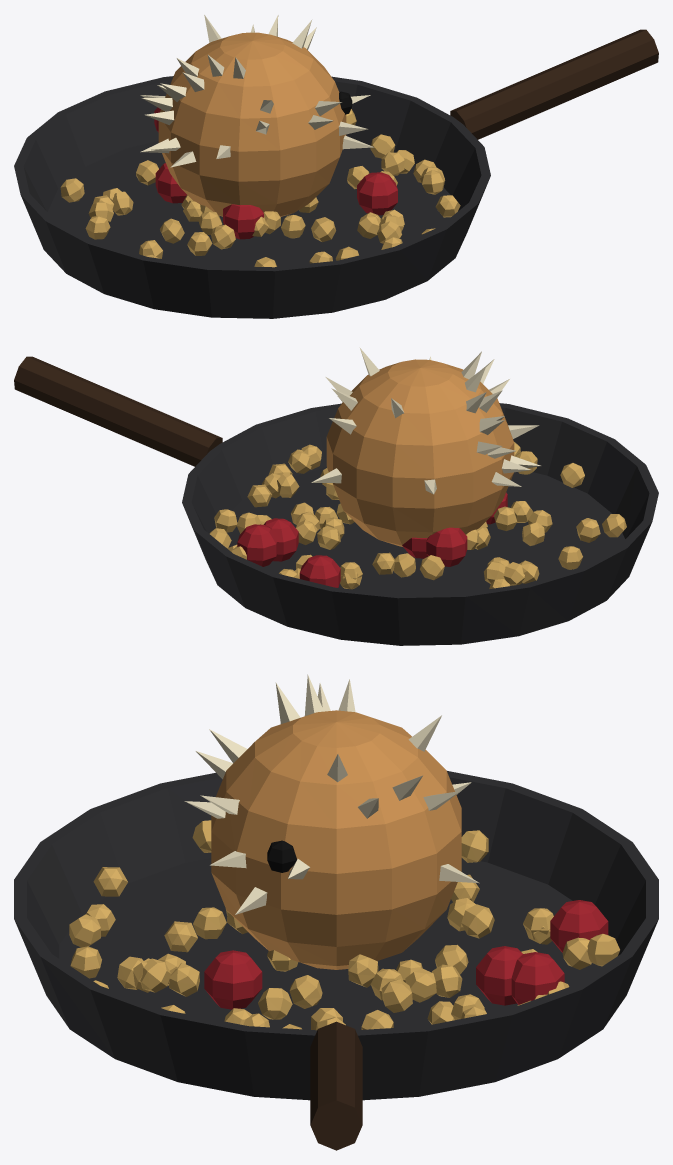
Rendered from VFP_Food_PufferBarleyPan.obj.
3 renders of one model, top to bottom at view 1: azimuth 30°, elevation 25°; view 2: azimuth 150°, elevation 25°; view 3: azimuth 270°, elevation 25°, orthographic. The views are drawn at different scales.
Visible parts, largest first — view 1: Pan, Puffer, Grain, Pan_wood_dark, Puffer_tusk, Berries; view 2: Pan, Puffer, Grain, Pan_wood_dark, Berries, Puffer_tusk; view 3: Pan, Puffer, Grain, Berries, Puffer_tusk, Pan_wood_dark, Puffer_eye.
Boxes of the visible parts, bbox=[...] form: Pan: bbox=[14, 76, 490, 318]; Puffer: bbox=[158, 32, 346, 216]; Grain: bbox=[60, 109, 460, 267]; Pan_wood_dark: bbox=[450, 29, 658, 139]; Puffer_tusk: bbox=[140, 15, 373, 167]; Berries: bbox=[154, 107, 397, 239]; Pan: bbox=[182, 403, 658, 645]; Puffer: bbox=[326, 359, 514, 546]; Grain: bbox=[209, 442, 626, 589]; Pan_wood_dark: bbox=[14, 356, 222, 466]; Berries: bbox=[237, 492, 507, 587]; Puffer_tusk: bbox=[311, 347, 541, 494]; Pan: bbox=[14, 771, 658, 1100]; Puffer: bbox=[211, 710, 461, 969]; Grain: bbox=[69, 820, 619, 1030]; Berries: bbox=[204, 900, 608, 1009]; Puffer_tusk: bbox=[184, 674, 479, 914]; Pan_wood_dark: bbox=[310, 1021, 362, 1150]; Puffer_eye: bbox=[267, 840, 296, 872].
Size of the model in its own units: 0.44 by 0.137 by 0.297.
